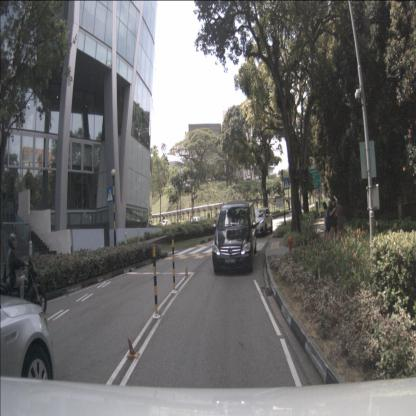human-pedestrian-adult: (328, 198, 338, 248), (329, 192, 338, 243), (321, 202, 330, 242)
vehicle-car: (0, 294, 55, 405), (212, 202, 257, 272), (248, 208, 273, 236), (191, 216, 202, 226), (161, 219, 171, 228)
vehicle-motorcycle: (1, 233, 48, 318)
